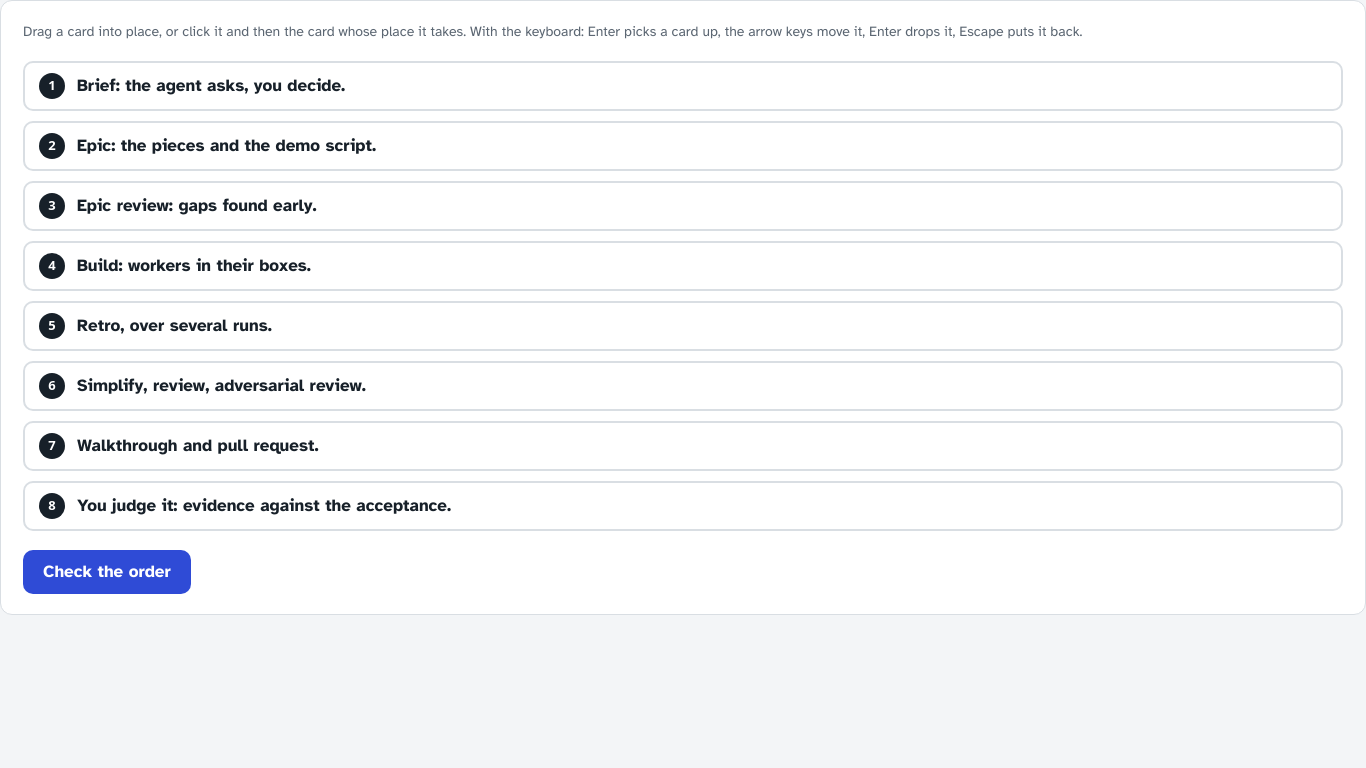
Test: the Check result beside the button (match and order) › is in the tree before the first Check on the order screen too
Step 1. Click the button "Check the order" → click(107, 572), box [23,550,191,594]
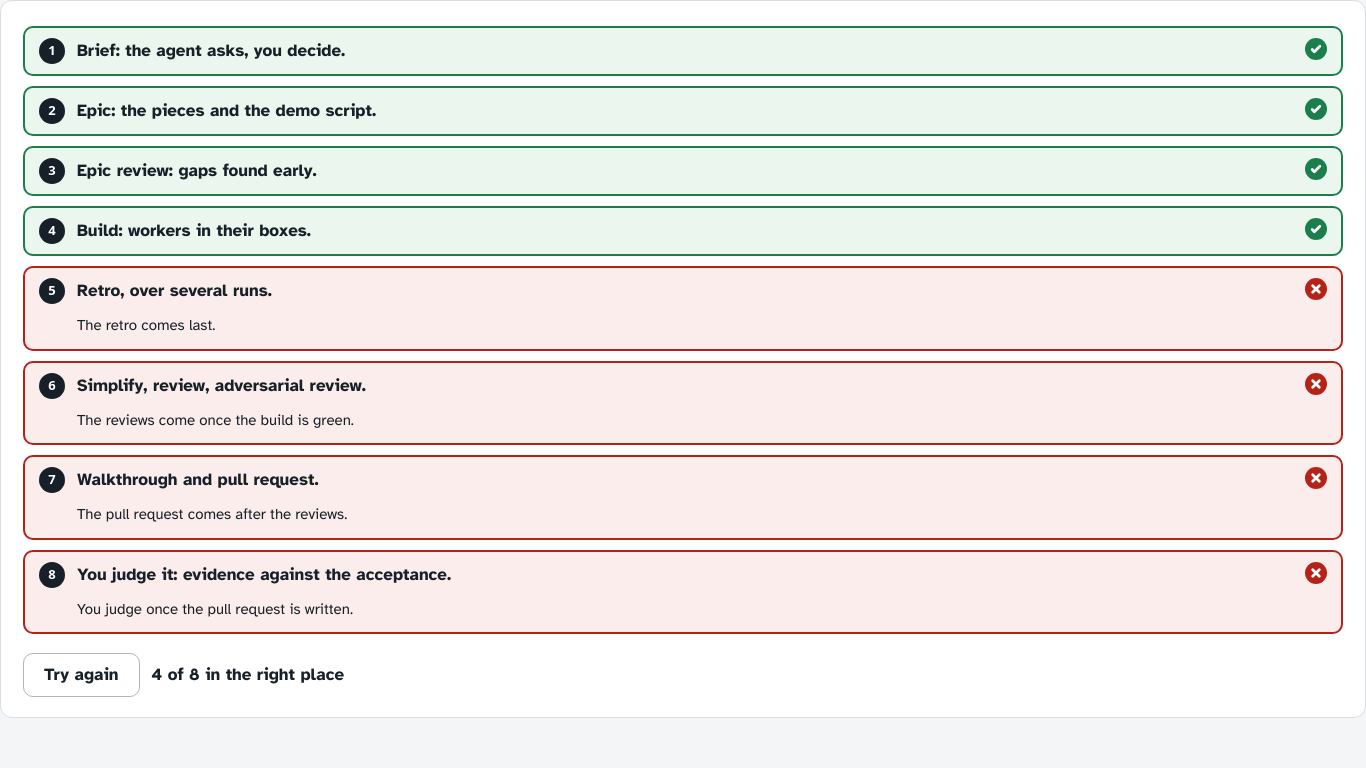
Expected: the message reads "4 of 8 in the right place", [152,664,344,685]
